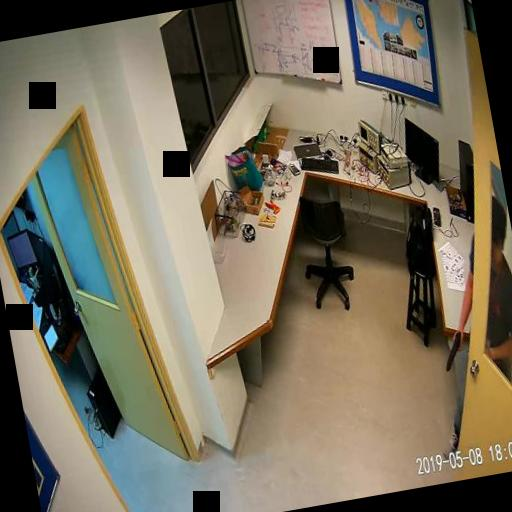Handgun: (438, 329, 466, 371)
